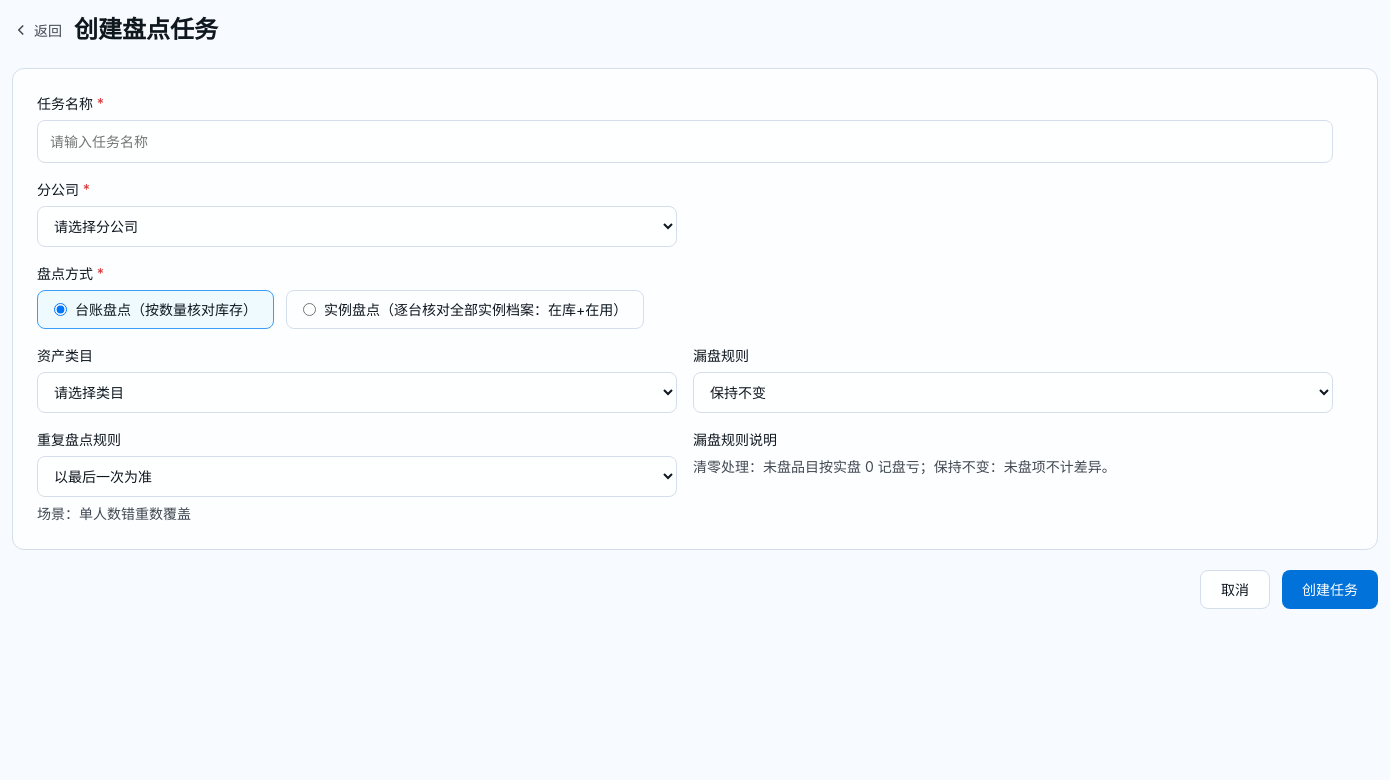
InventoryTaskCreate 实例盘去部门 › 页面无盘点部门下拉；实例盘 radio 文案为全公司口径
This screenshot has width=1390, height=780.
Click the radio button labelled "实例盘点（逐台核对全部实例档案：在库+在用）": click(310, 310) x1=303 y1=303 x2=316 y2=316
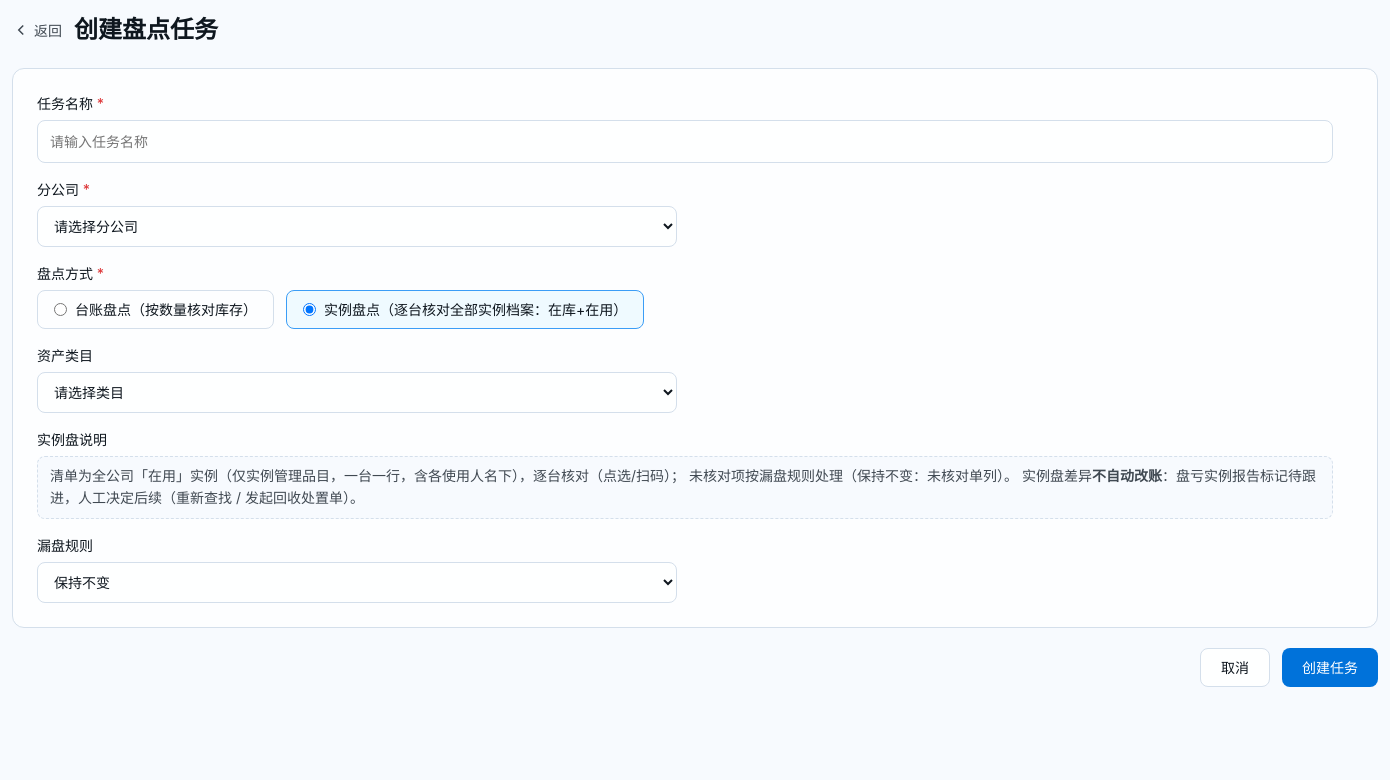
expect the text "全公司「在用」实例" is shown: met, box x1=50 y1=467 x2=1092 y2=484
